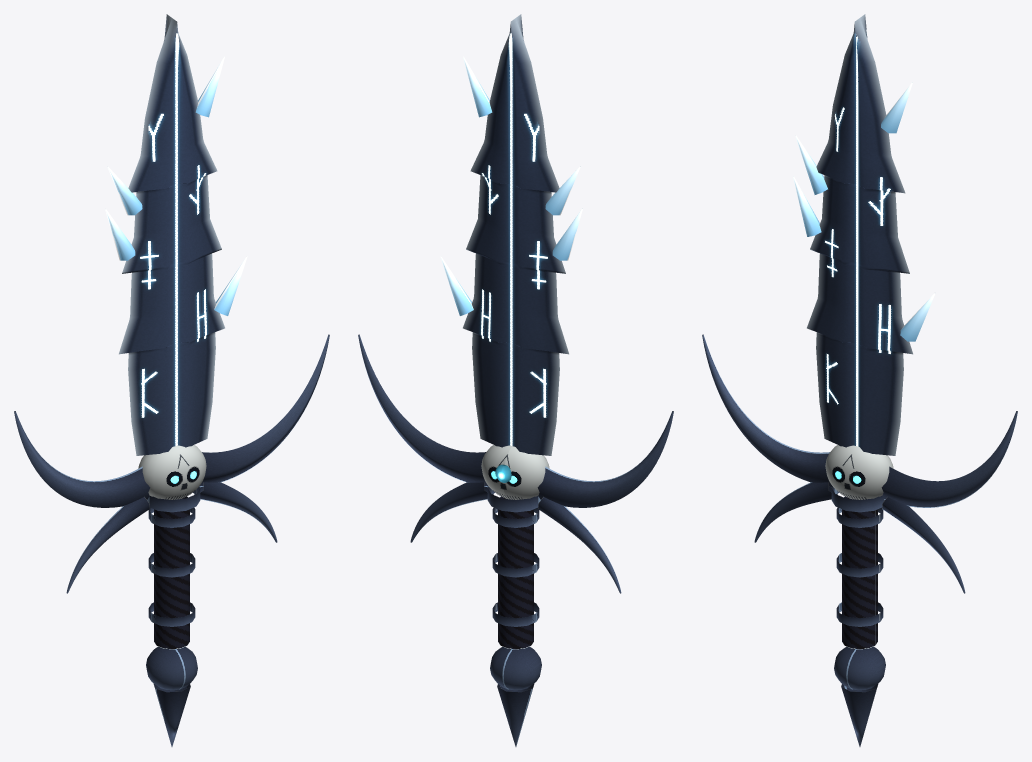
The model's file is frostmourne_hero.glb.
The picture shows the model from 3 angles, left to right: view 1: azimuth 30°, elevation 25°; view 2: azimuth 150°, elevation 25°; view 3: azimuth 330°, elevation 25°; orthographic projection.
Parts seen in each view (by area): view 1: Frostmourne; view 2: Frostmourne; view 3: Frostmourne.
Boxes of the visible parts, x1=… form: Frostmourne: x1=14, y1=14, x2=329, y2=746; Frostmourne: x1=358, y1=14, x2=673, y2=746; Frostmourne: x1=702, y1=14, x2=1017, y2=746.
Size of the model in its own units: 1.17 by 2.58 by 0.1875.
Materials: 1 (1 with a texture image).
